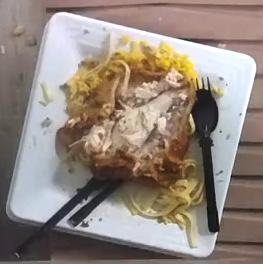chicken: (69, 78, 195, 186)
pasta: (123, 177, 204, 248)
rice_mix: (65, 34, 197, 99)
